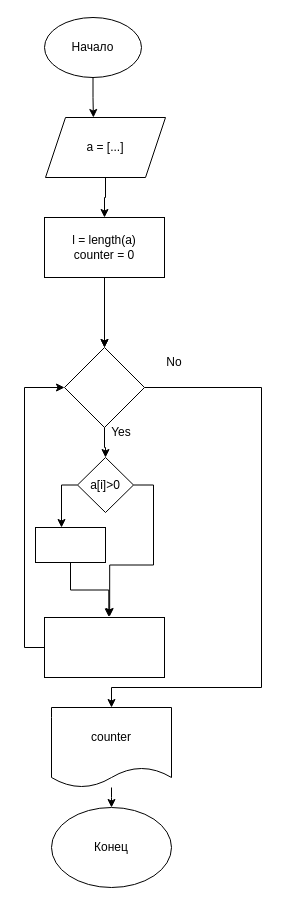
The diagram is 287 pixels wide and 905 high, and some of its shapes have lost their labels. Each missing label, with the centre of its shape:
counter += 1: the point at 70,544
i += 1: the point at 104,647
i<l-1: the point at 104,387
